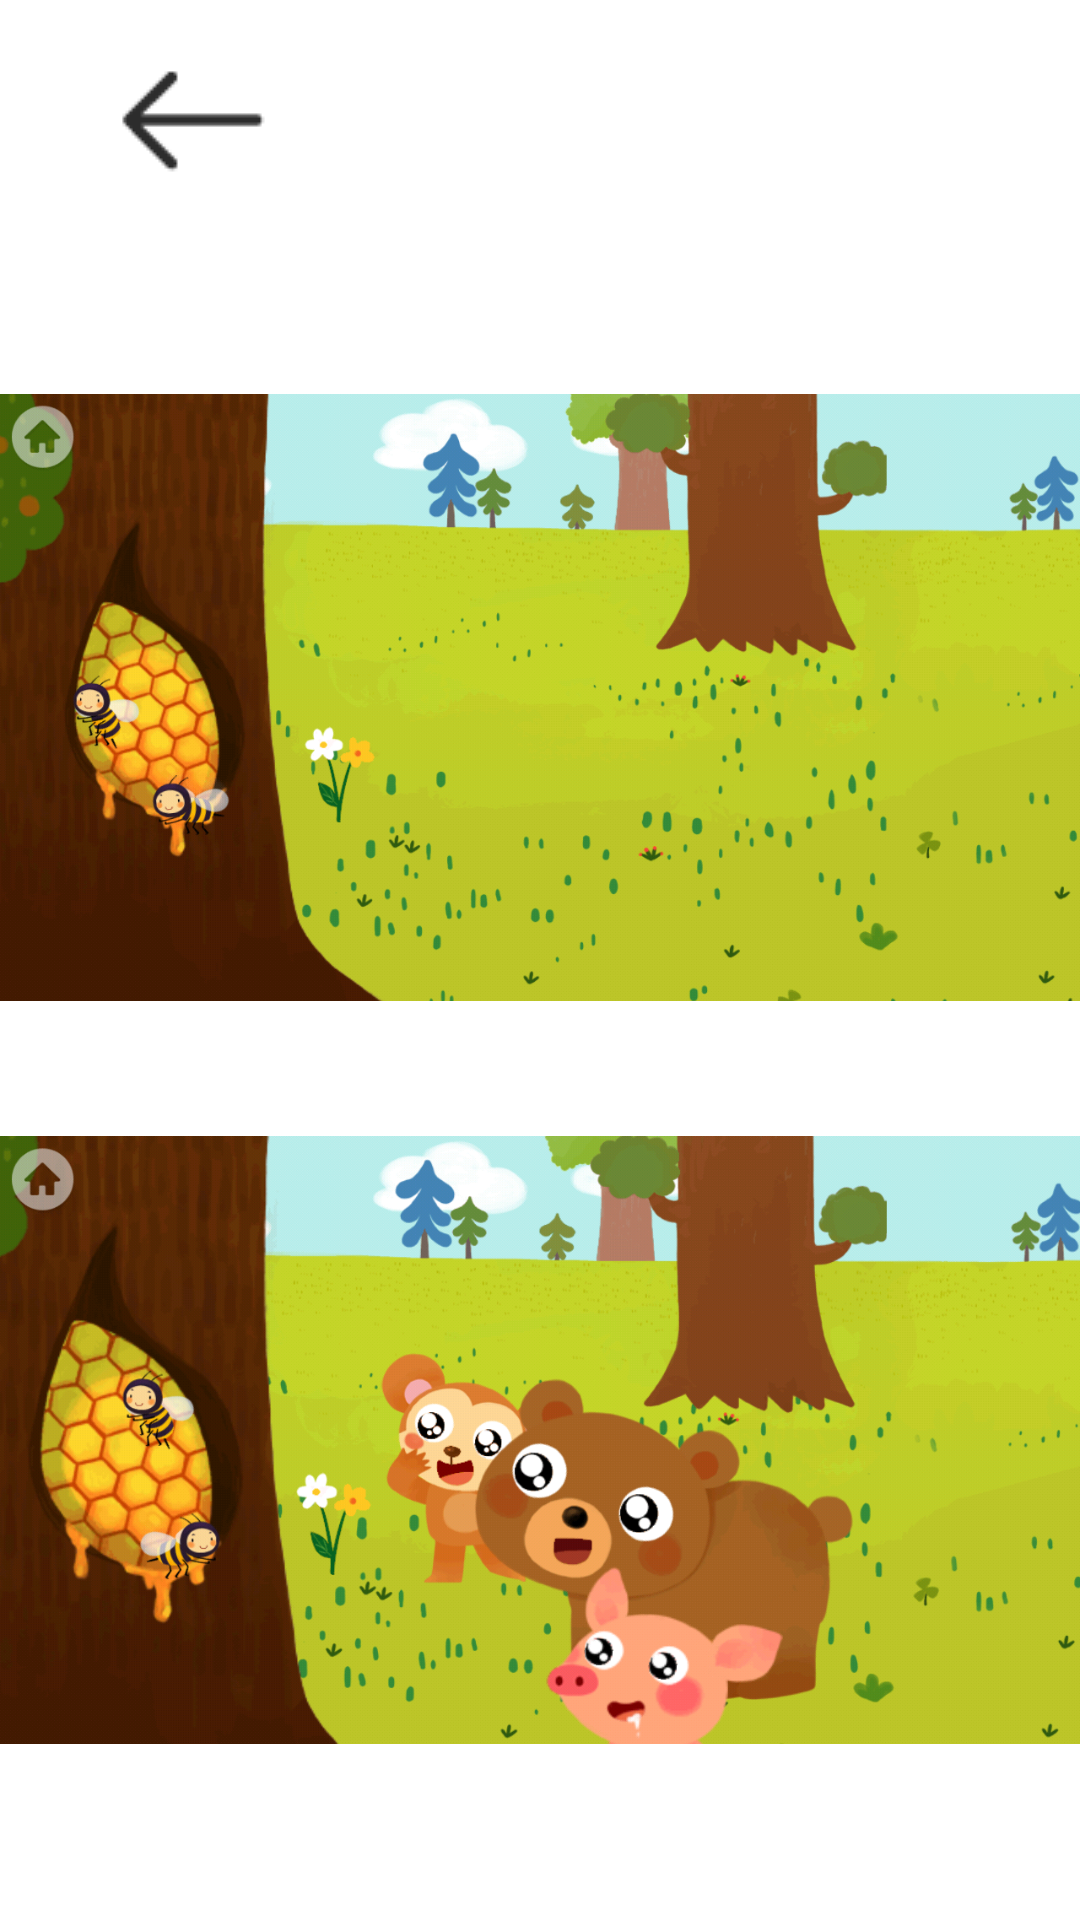

Icon click points for this 1080 x 1920 phone screenshot, format (x=x, y=y):
return: (x=193, y=121)
